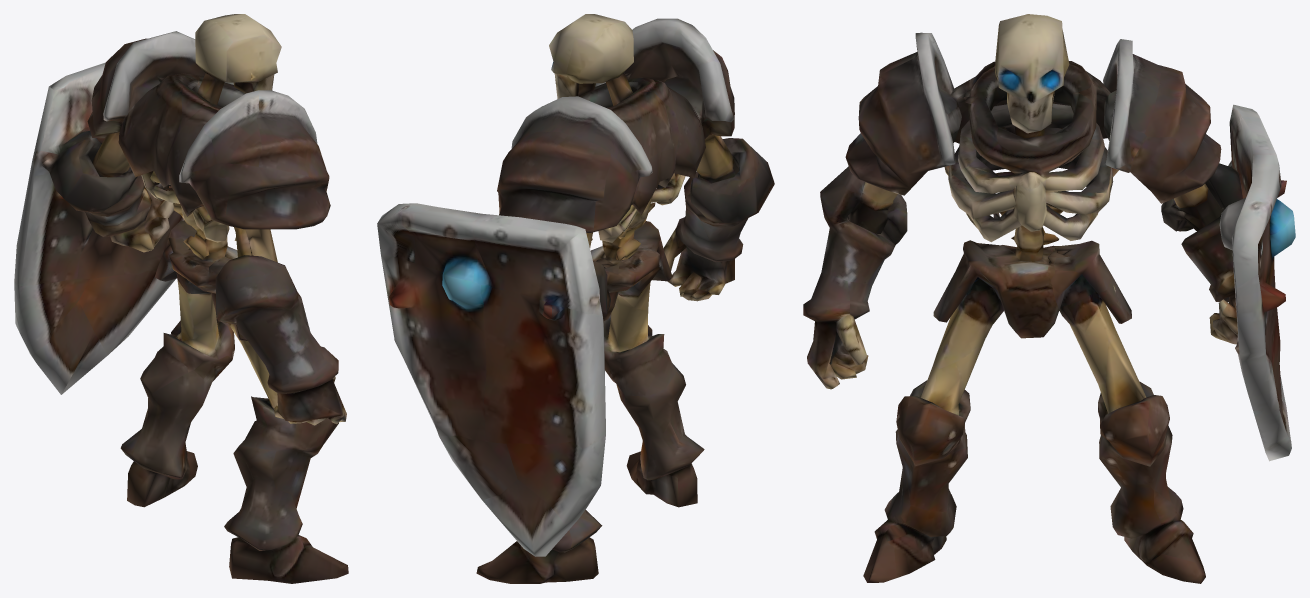
Rendered from undead_knight.glb.
3 renders of one model, left to right at view 1: azimuth 30°, elevation 25°; view 2: azimuth 150°, elevation 25°; view 3: azimuth 270°, elevation 25°, orthographic. The views are drawn at different scales.
Parts seen in each view (by area): view 1: tripo_node_262f8386-77f0-4ad3-9ef9-c3009378e7c2; view 2: tripo_node_262f8386-77f0-4ad3-9ef9-c3009378e7c2; view 3: tripo_node_262f8386-77f0-4ad3-9ef9-c3009378e7c2.
Part boxes in pixels (<box>): tripo_node_262f8386-77f0-4ad3-9ef9-c3009378e7c2: <box>14,14,348,583</box>; tripo_node_262f8386-77f0-4ad3-9ef9-c3009378e7c2: <box>377,14,774,583</box>; tripo_node_262f8386-77f0-4ad3-9ef9-c3009378e7c2: <box>803,14,1295,583</box>.
Bounding box in the file's own units: 0.4517 × 0.9452 × 0.7756.
Materials: 1 (1 with a texture image).
